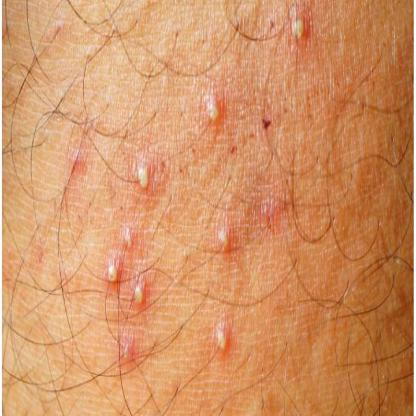Fire ant: (101, 214, 156, 310), (258, 184, 288, 235), (284, 3, 312, 46), (200, 86, 226, 132), (210, 314, 235, 354), (212, 219, 238, 257), (134, 155, 154, 193), (116, 336, 136, 368), (70, 138, 86, 176), (50, 10, 67, 39)
